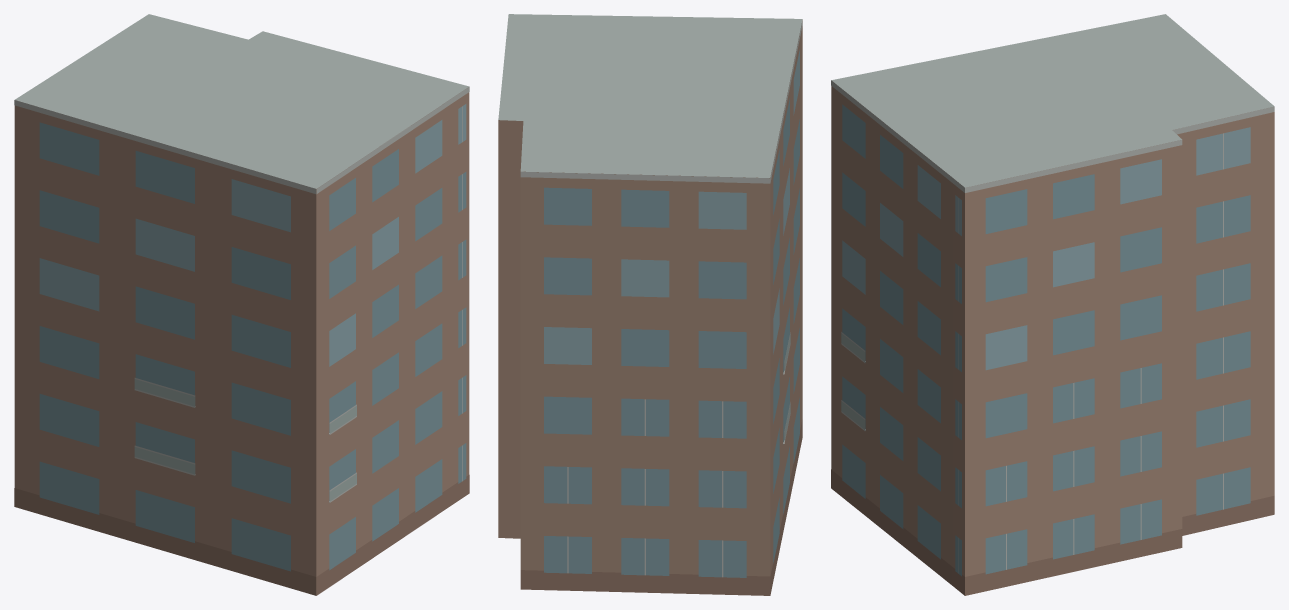
Rendered from survey-upis-33044163.glb.
The picture shows the model from 3 angles, left to right: view 1: azimuth 30°, elevation 25°; view 2: azimuth 150°, elevation 25°; view 3: azimuth 270°, elevation 25°; orthographic projection. The views are drawn at different scales.
Visible parts, largest first — view 1: survey-upis-33044163.tmp; view 2: survey-upis-33044163.tmp; view 3: survey-upis-33044163.tmp.
Boxes of the visible parts, bbox=[...] form: survey-upis-33044163.tmp: bbox=[14, 14, 469, 595]; survey-upis-33044163.tmp: bbox=[498, 14, 802, 595]; survey-upis-33044163.tmp: bbox=[831, 14, 1274, 595].
Bounding box in the file's own units: 16.71 × 18.3 × 18.03.
